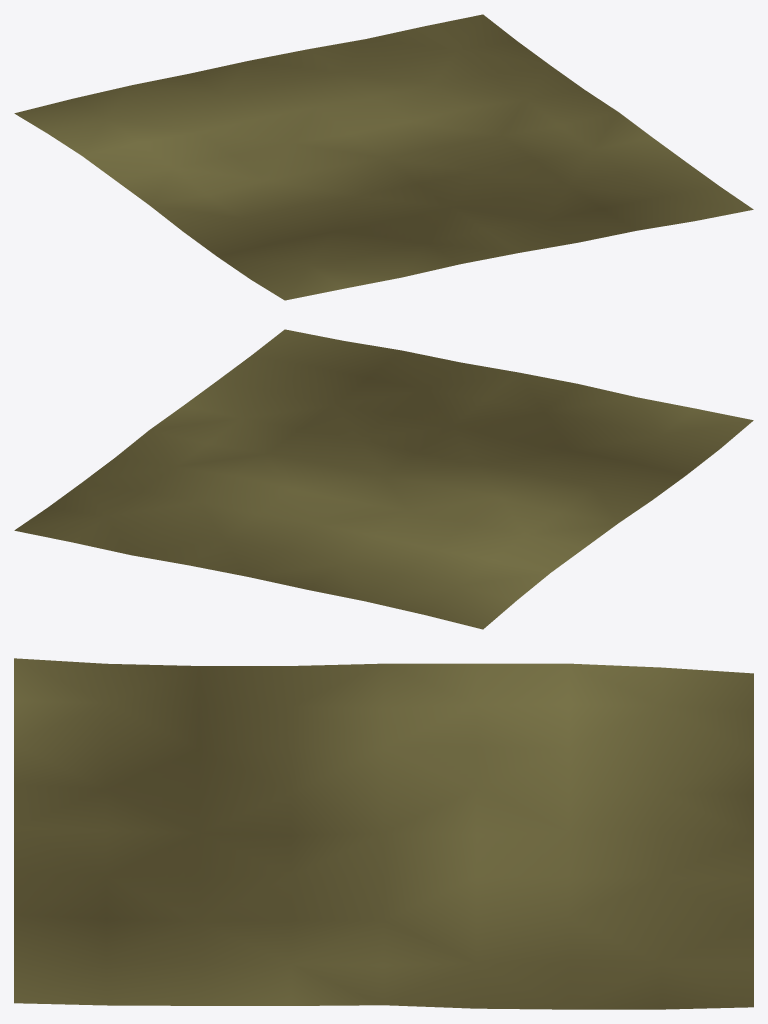
The model's file is terrain_lod2_4_-2.obj.
3 renders of one model, top to bottom at view 1: azimuth 30°, elevation 25°; view 2: azimuth 150°, elevation 25°; view 3: azimuth 270°, elevation 25°, orthographic. The views are drawn at different scales.
Parts seen in each view (by area): view 1: terrain_lod2_4_-2; view 2: terrain_lod2_4_-2; view 3: terrain_lod2_4_-2.
Part boxes in pixels (<box>): terrain_lod2_4_-2: <box>14,14,753,300</box>; terrain_lod2_4_-2: <box>14,329,753,629</box>; terrain_lod2_4_-2: <box>14,658,753,1009</box>.
Size of the model in its own units: 128 by 7.37 by 128.
